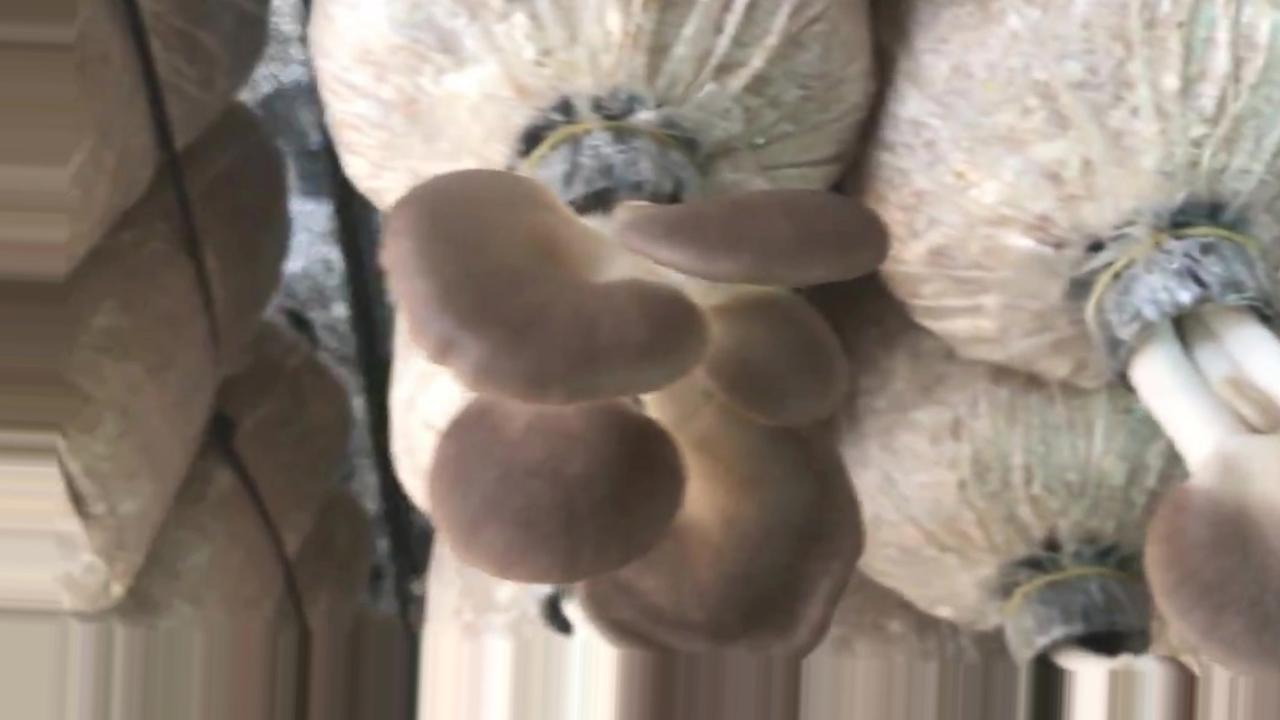nam: (383, 117, 890, 720), (1086, 223, 1280, 662), (1001, 567, 1192, 720)
